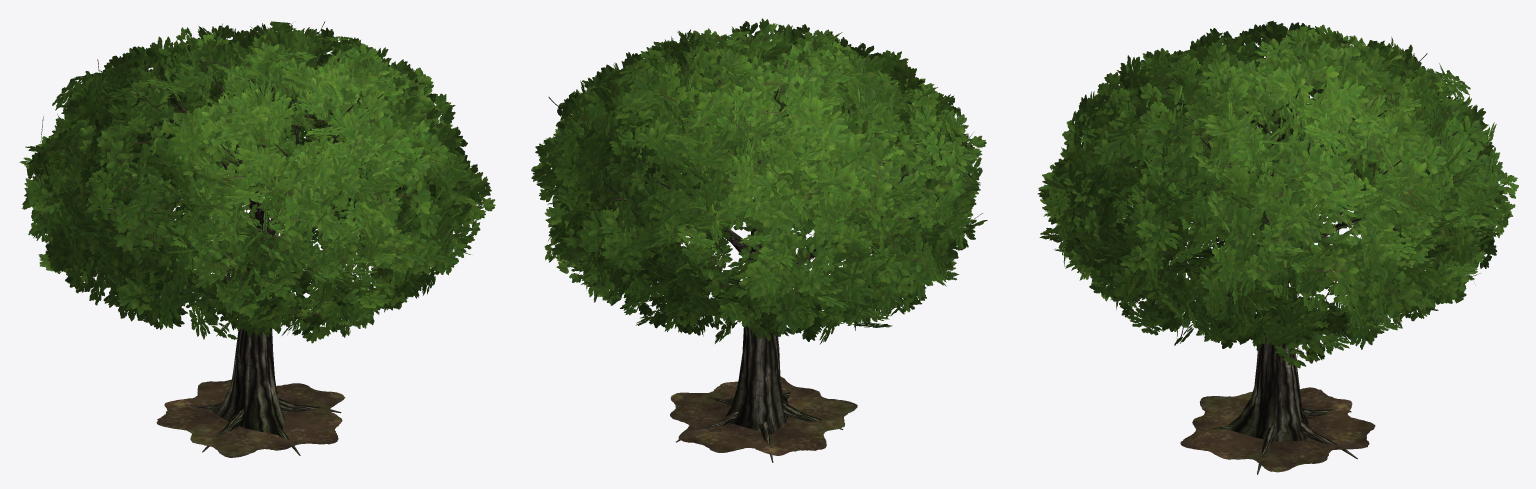
File: oak-medium-mid.glb
The picture shows the model from 3 angles, left to right: view 1: azimuth 30°, elevation 25°; view 2: azimuth 150°, elevation 25°; view 3: azimuth 270°, elevation 25°; orthographic projection. The views are drawn at different scales.
Visible parts, largest first — view 1: oak_medium_mid; view 2: oak_medium_mid; view 3: oak_medium_mid.
Part boxes in pixels (x1,y1,x2,y2): oak_medium_mid: (19, 21, 495, 457); oak_medium_mid: (531, 18, 987, 462); oak_medium_mid: (1037, 20, 1518, 474).
Size of the model in its own units: 10.22 by 9.16 by 10.38.
Materials: 1 (1 with a texture image).
